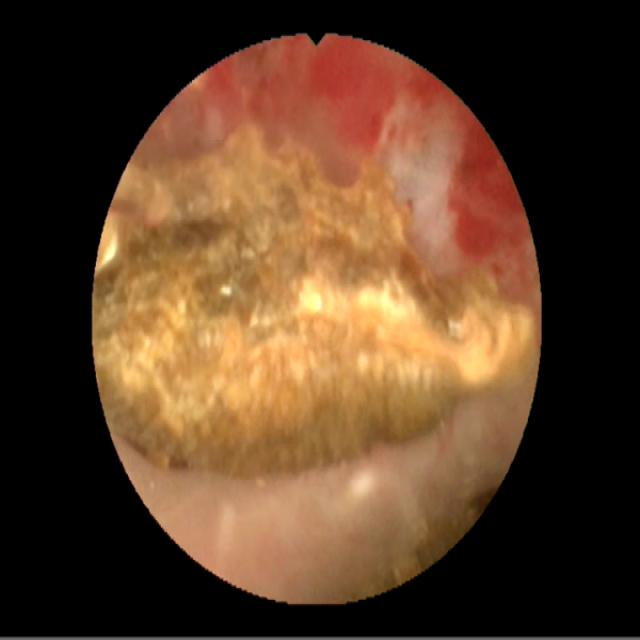stone: (95, 120, 535, 474)
